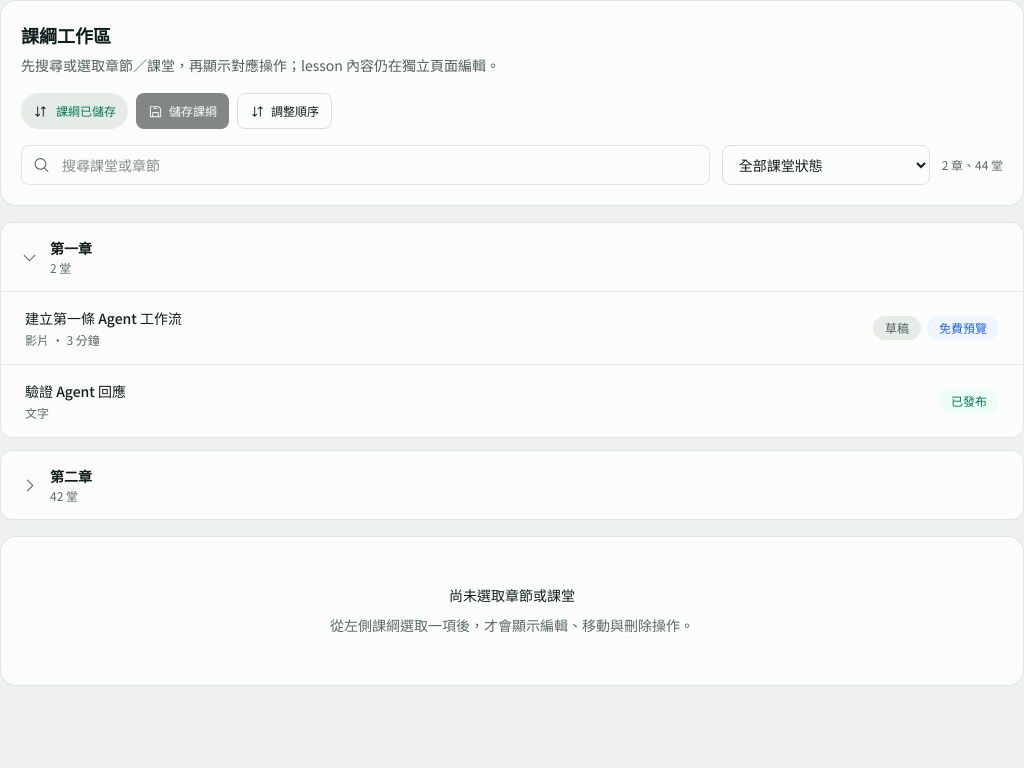
Scenario: CourseOutlineEditor › stages the complete outline and only persists after explicit save
Click the button "第一章 2 堂" at [71, 248], box [13,235,1011,279]
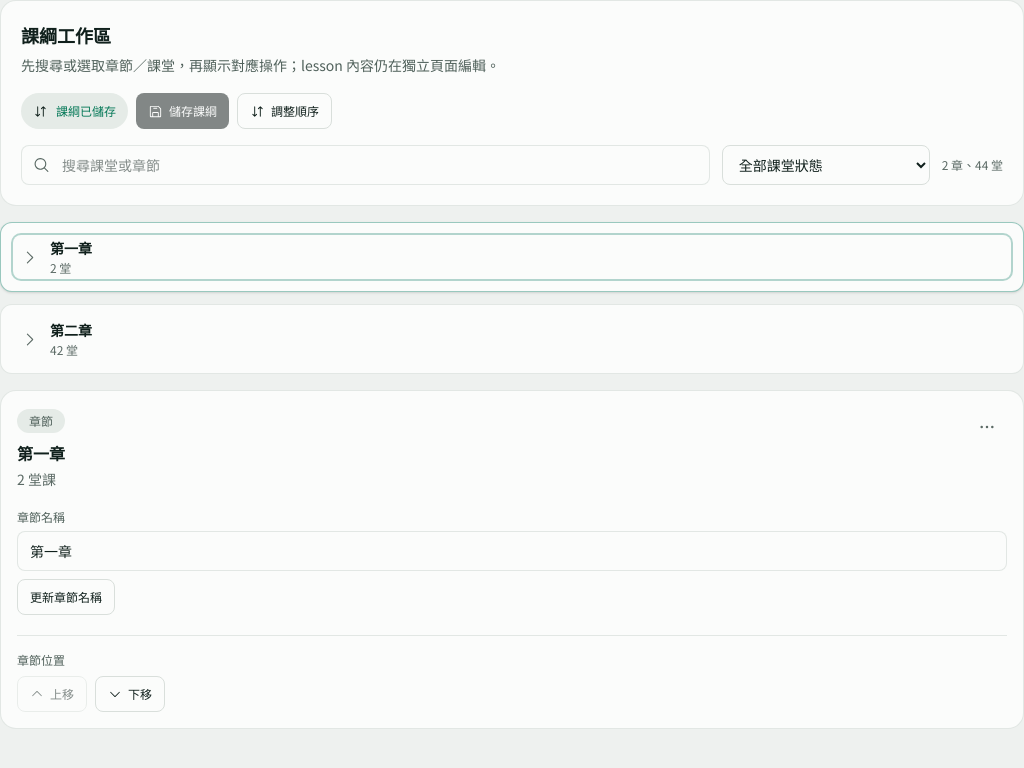
Click the button "下移" at [130, 694], box [95,676,165,712]
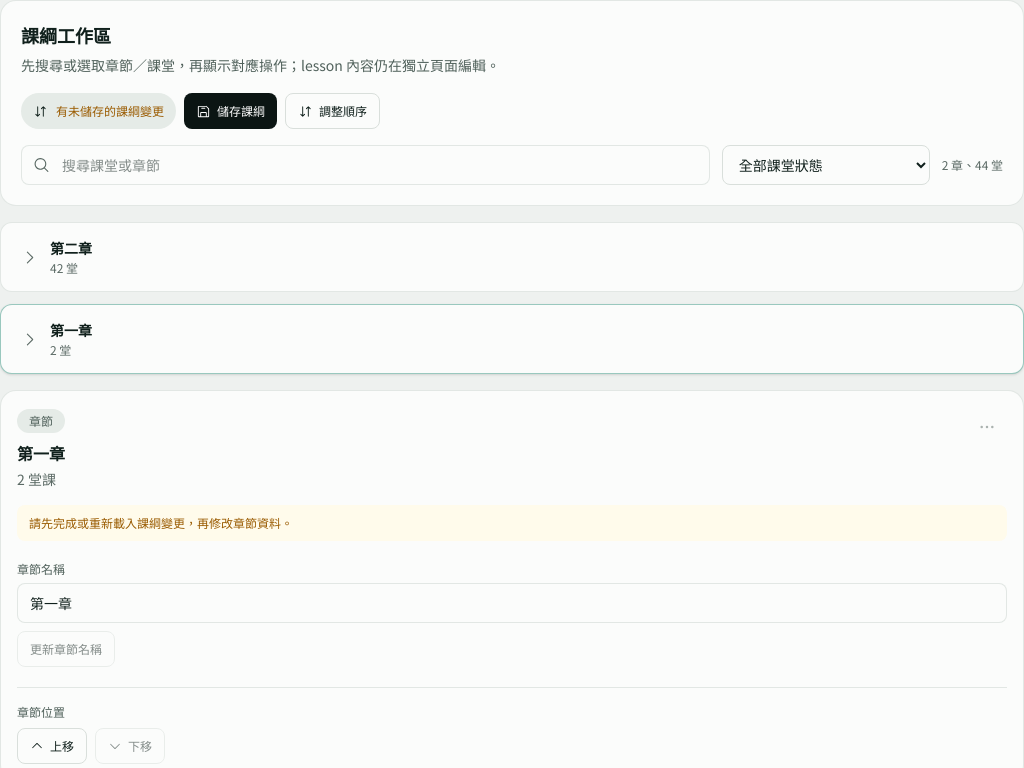
Expected: the text "有未儲存的課綱變更" is shown, [56,103,164,119]
Expected: the button "上移" is enabled, [17,728,87,764]
Click the button "儲存課綱" at [230, 111], box [184,93,277,129]
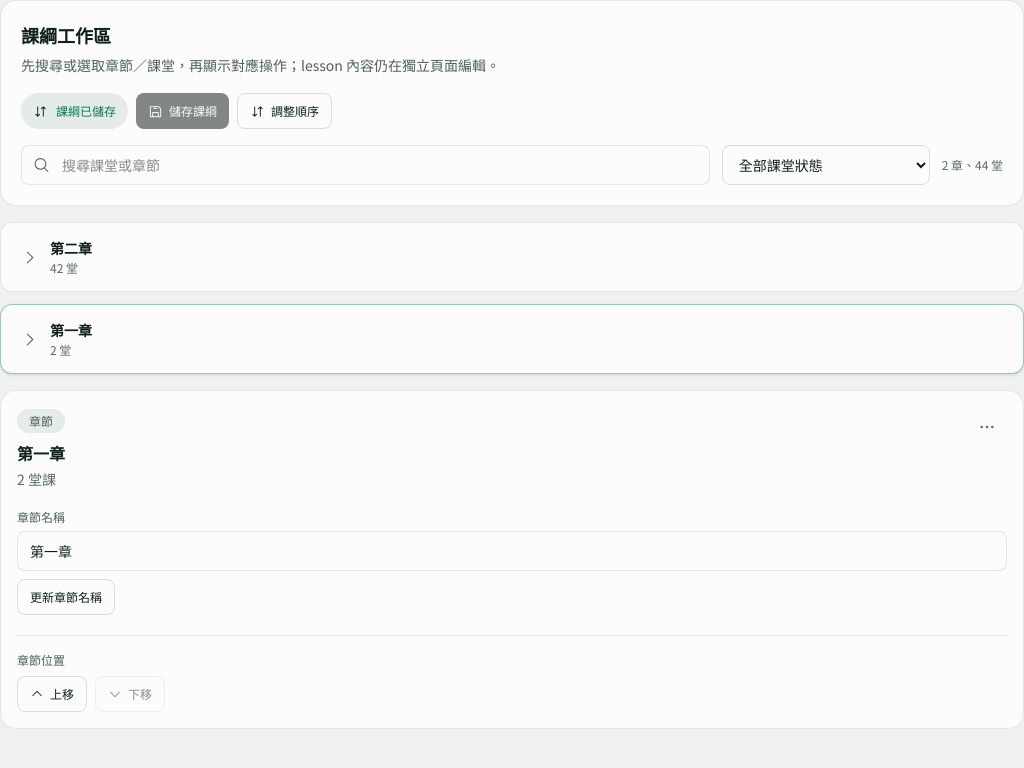
Expected: the text "課綱已儲存" is shown, [56,103,116,119]
